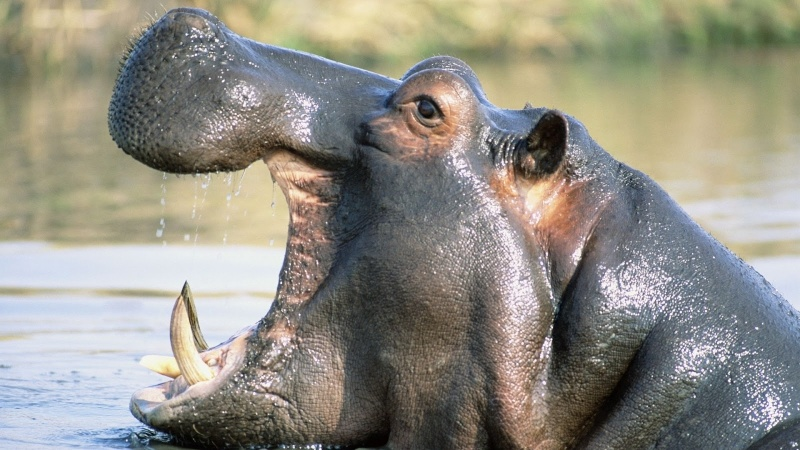hipopotamo: (109, 0, 796, 450)
